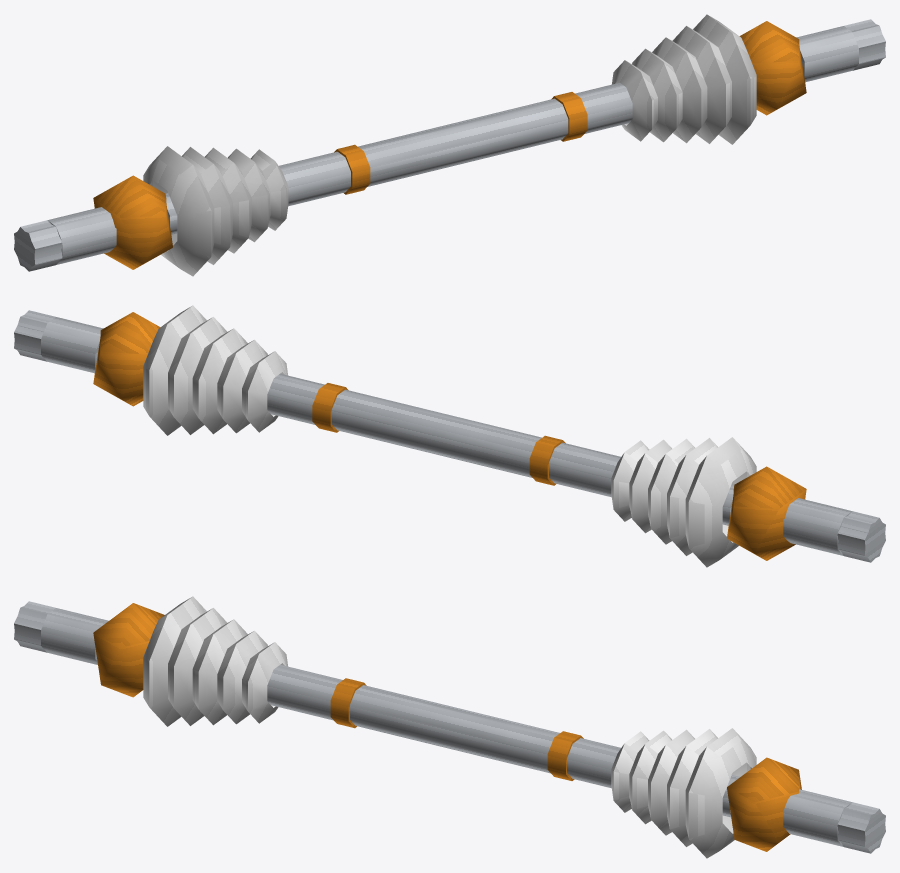
Rendered from semieixos_n3.glb.
The picture shows the model from 3 angles, top to bottom: view 1: azimuth 30°, elevation 25°; view 2: azimuth 150°, elevation 25°; view 3: azimuth 330°, elevation 25°; orthographic projection.
Parts seen in each view (by area): view 1: semieixos_n3; view 2: semieixos_n3; view 3: semieixos_n3.
Part boxes in pixels (bbox=[...]): semieixos_n3: bbox=[14, 14, 885, 276]; semieixos_n3: bbox=[14, 305, 885, 567]; semieixos_n3: bbox=[14, 596, 885, 858].
Size of the model in its own units: 0.94 by 0.1183 by 0.1183.
Materials: 3 (3 with a texture image).
